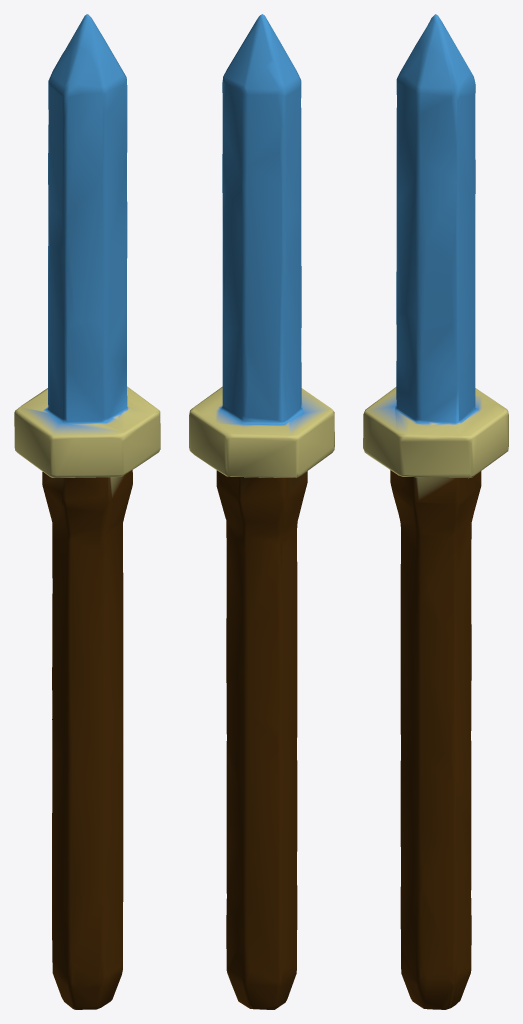
Rendered from gen3d-magic-wand-lod1.glb.
3 views of the same model, side by side, from view 1: azimuth 30°, elevation 25°; view 2: azimuth 150°, elevation 25°; view 3: azimuth 330°, elevation 25° (orthographic).
Visible parts, largest first — view 1: part_0; view 2: part_0; view 3: part_0.
Part boxes in pixels (x1,y1,x2,y2): part_0: [14, 14, 160, 1009]; part_0: [189, 14, 334, 1009]; part_0: [363, 14, 508, 1009].
Size of the model in its own units: 0.1172 by 1 by 0.1296.
